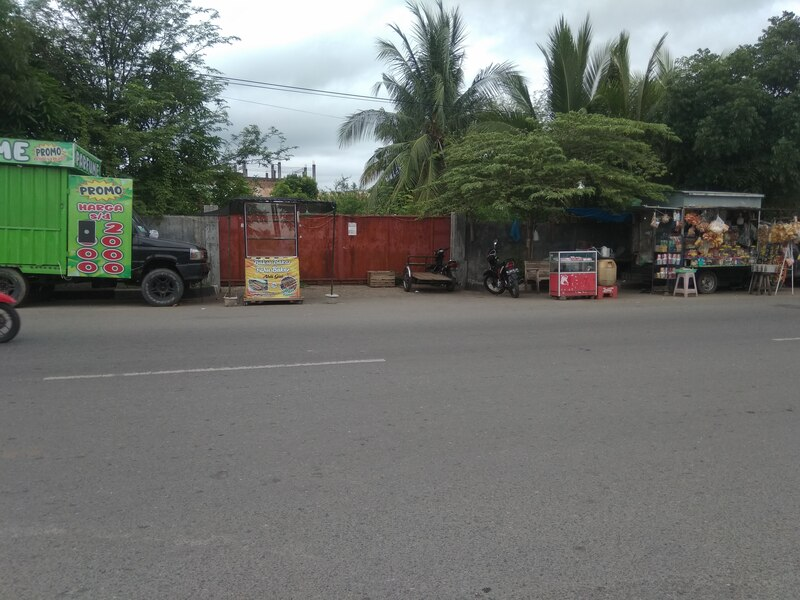becak barang: (400, 244, 463, 295)
